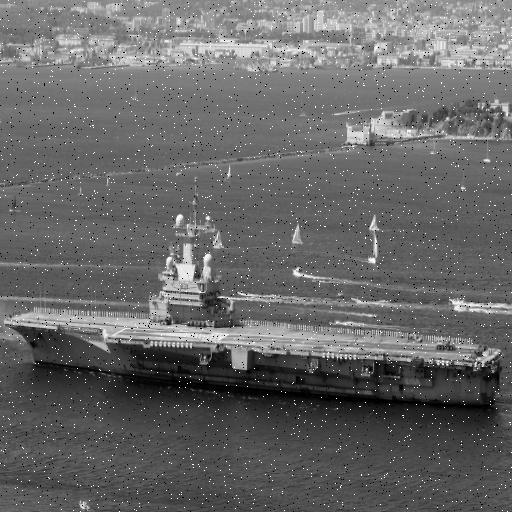Portanaves: (3, 174, 508, 413)
